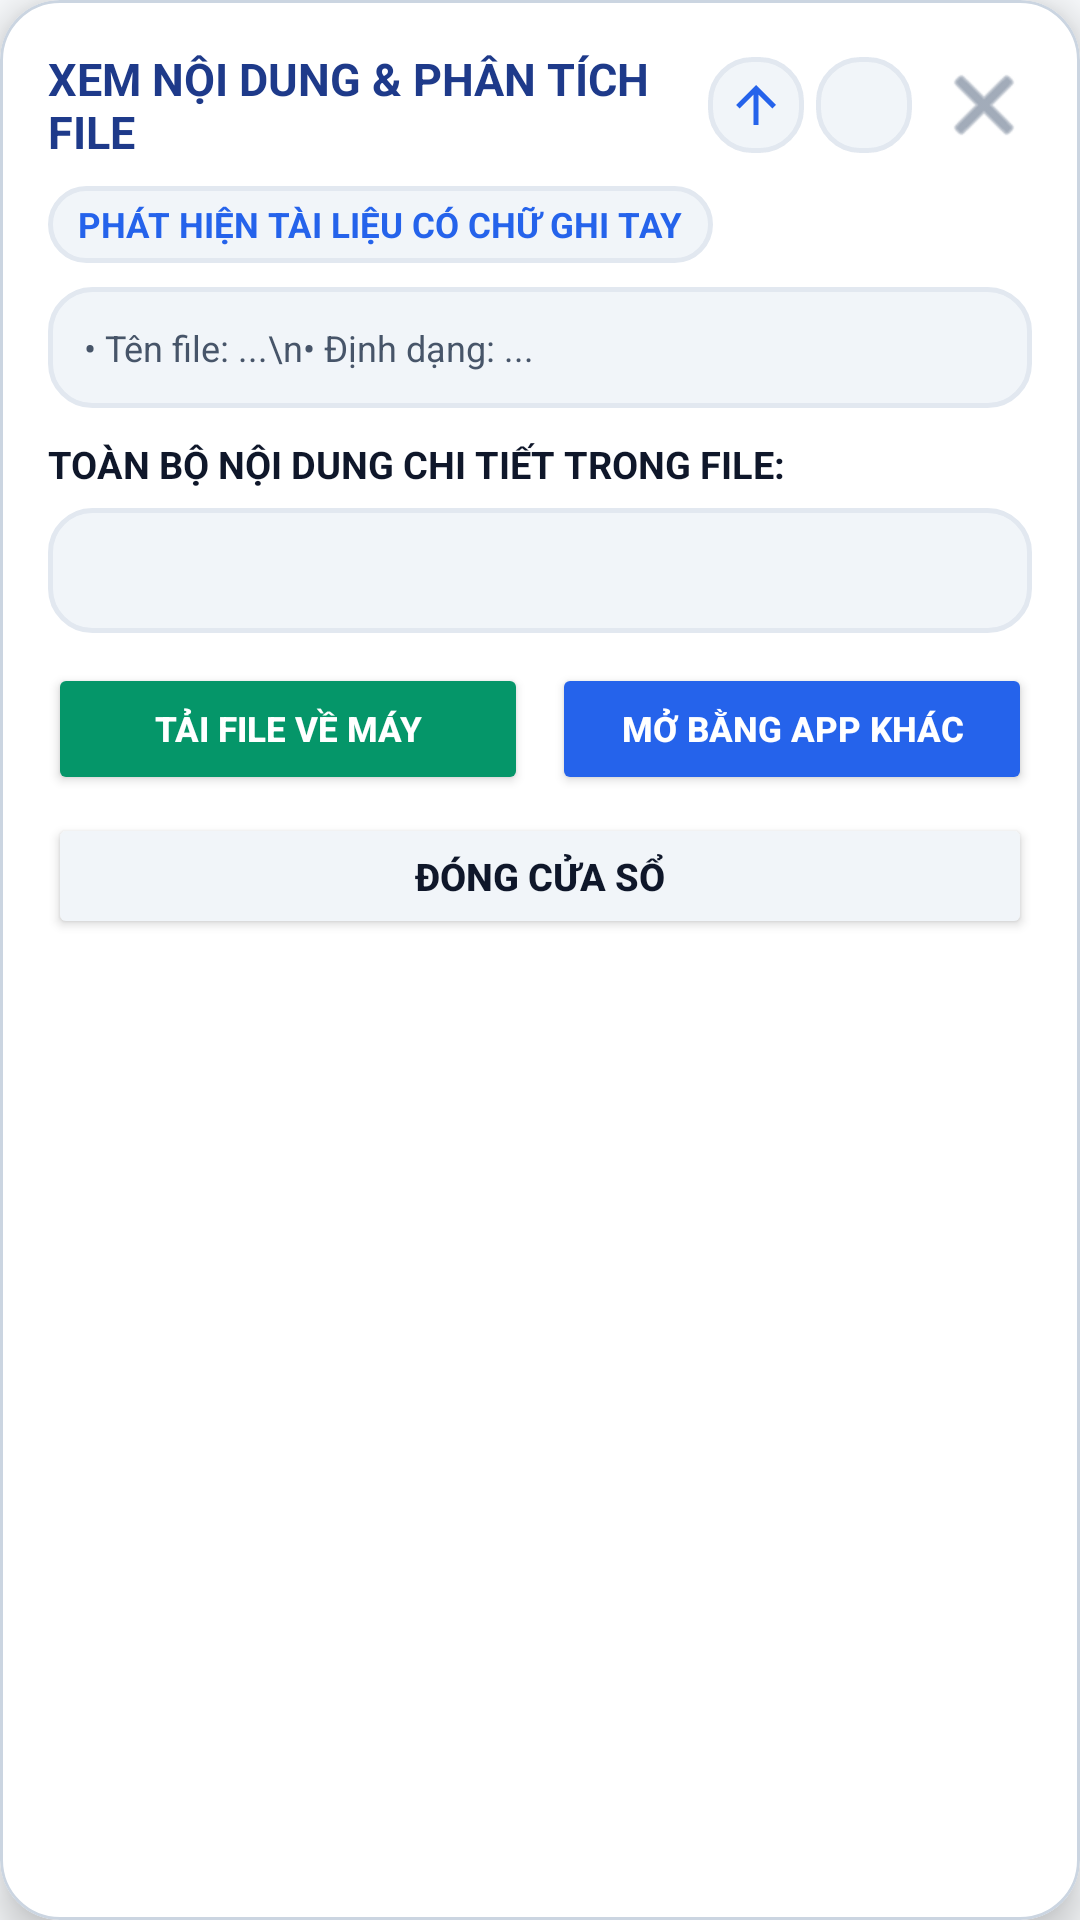

Named icons in this screenshot (1080px×1920px) and their centers, point (x, y):
Lên đầu: point (756, 105)
Đóng: point (984, 105)
